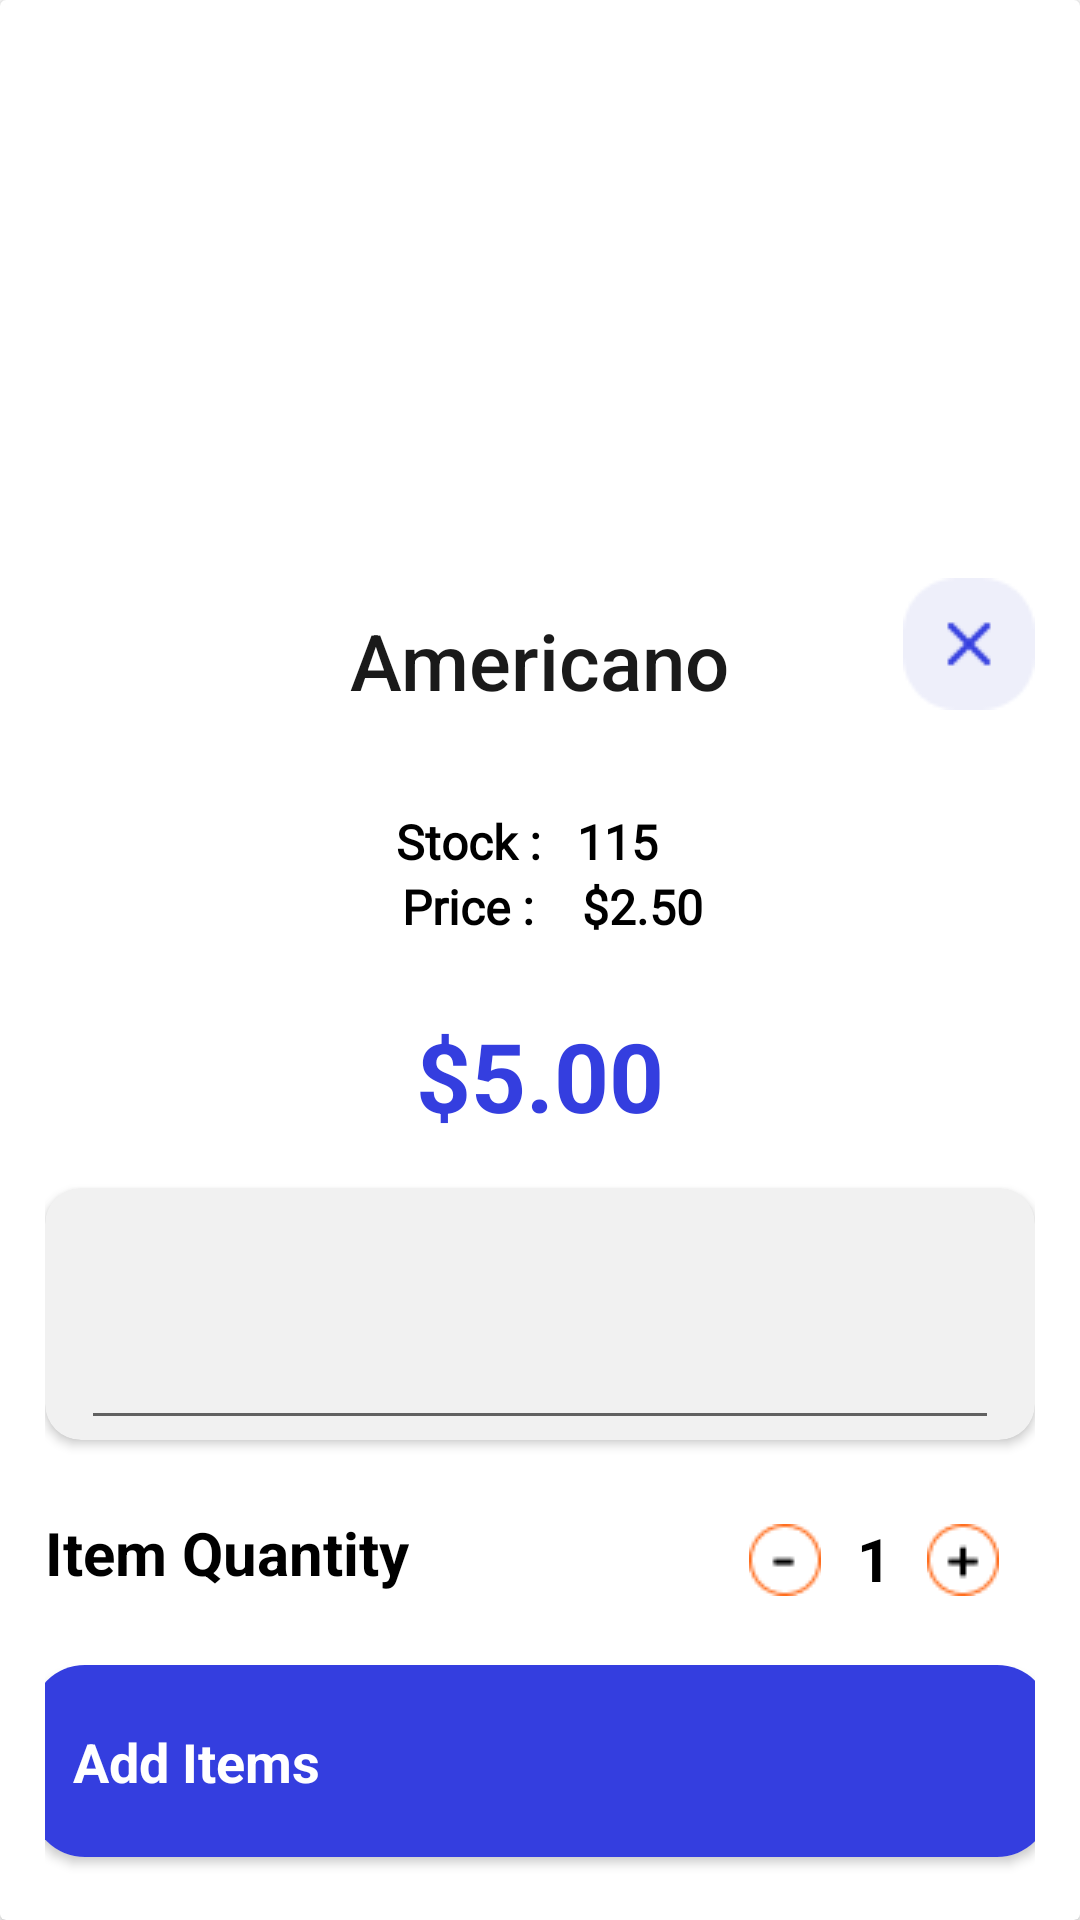

Icons on this 1080w x 1920h Android screen, each with the point to tap as (x,y):
close: (969,644)
minus: (785,1560)
plus: (963,1560)
